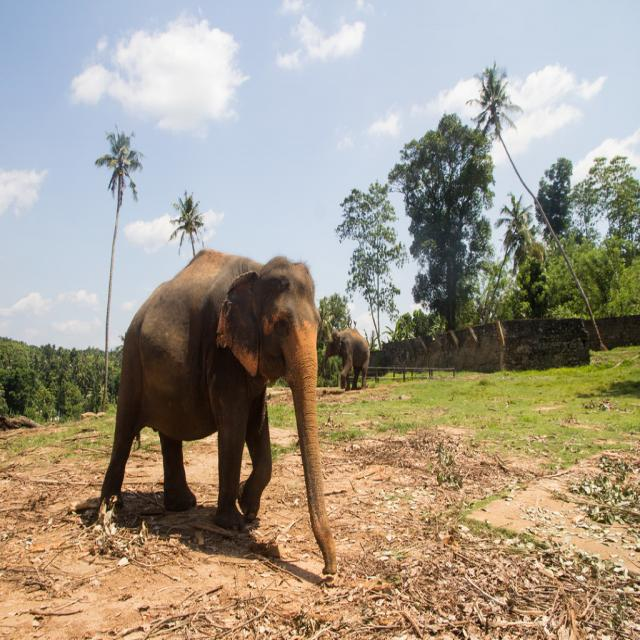Elephant: (100, 247, 337, 575), (322, 329, 370, 391)
